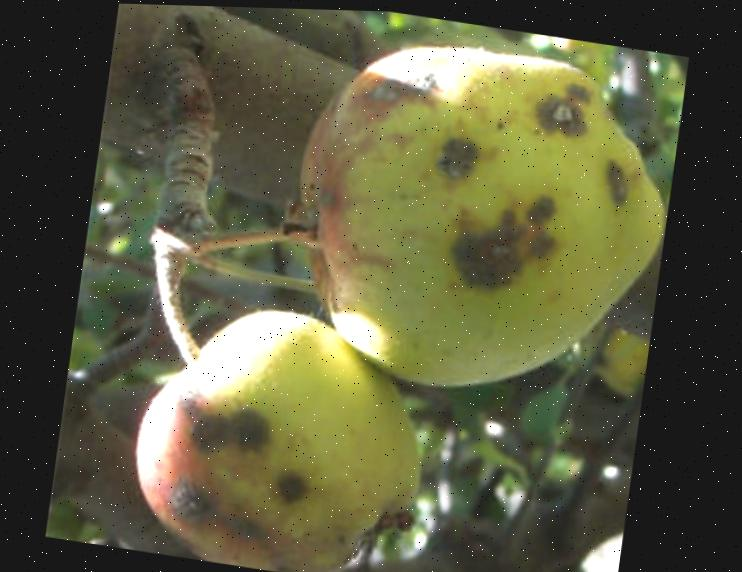SCAB: (265, 10, 688, 400), (96, 324, 429, 572)
